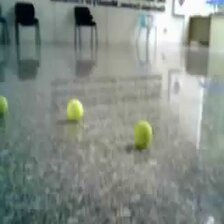tennis: (132, 120, 153, 147), (66, 99, 84, 119), (1, 94, 12, 120)
